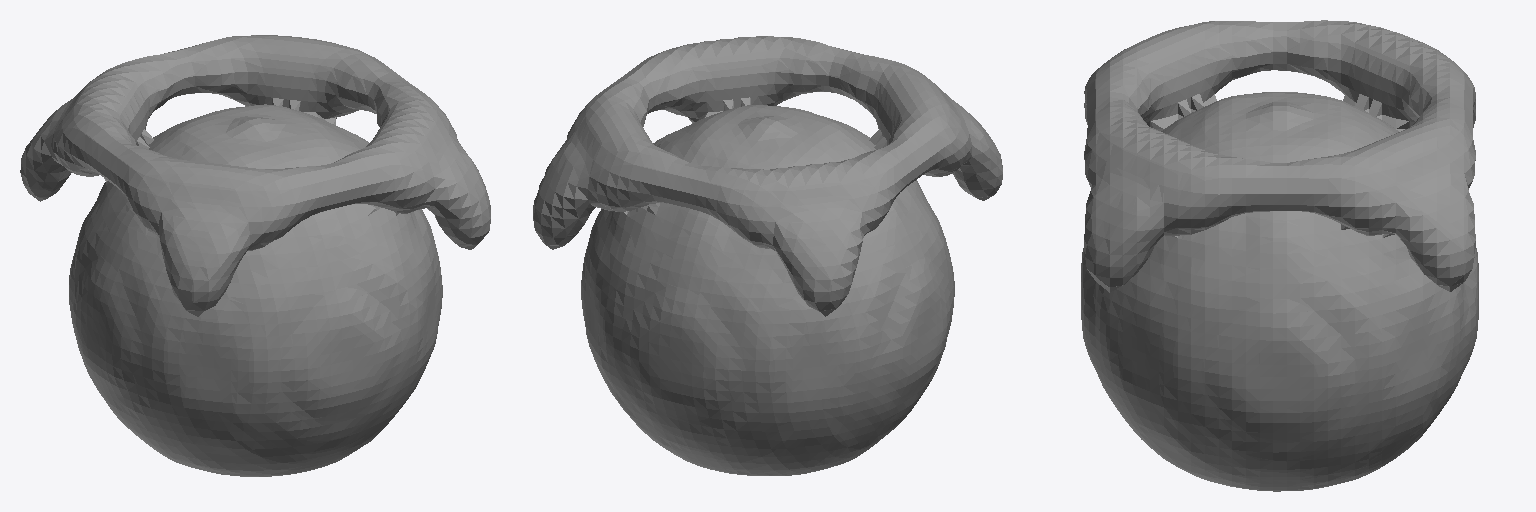
robot.urdf — cube.urdf:
<?xml version="0.0" ?> 
<robot name="cube.urdf"> 
<link name="legobrick"> 
<contact> 
<lateral_friction value="5.0"/> 
<rolling_friction value="0.0"/> 
<contact_cfm value="0.0"/> 
<contact_erp value="1.0"/> 
</contact> 
<inertial> 
<origin rpy="0 0 0" xyz="0.0 0.0 0.0"/> 
<mass value=".01"/> 
<inertia ixx="1" ixy="0" ixz="0" iyy="1" iyz="0" izz="1"/> 
</inertial> 
<visual> 
<origin rpy="1.570796 0 0" xyz="-0.02582997040885576 0.025852302716761227 -0.031139748280461843"/> 
<geometry> 
<mesh filename="D10_3.obj" scale="0.0006999968683890102 0.0006999968683890102 0.0006999968683890102"/> 
</geometry> 
<material name="yellow"> 
<color rgba="0.6 0.6 0.6 1"/> 
</material> 
</visual> 
<collision> 
<origin rpy="1.570796 0 0" xyz="-0.02582997040885576 0.025852302716761227 -0.031139748280461843"/> 
<geometry> 
<mesh filename="D10_3.obj" scale="0.0006999968683890102 0.0006999968683890102 0.0006999968683890102"/> 
</geometry> 
</collision> 
</link> 
</robot>

--- Facts derived from the render (not from the file) ---
3 views of the same robot in one strip: view 1: azimuth 30°, elevation 25°; view 2: azimuth 150°, elevation 25°; view 3: azimuth 270°, elevation 25° (orthographic).
Robot: cube.urdf — 1 links, 0 joints (none); root link legobrick; default pose: all joints at 0.
Links seen in each view (by area): view 1: legobrick; view 2: legobrick; view 3: legobrick.
Boxes of the visible links, x1,y1,x2,y2 form: legobrick: (20, 35, 490, 476); legobrick: (533, 36, 1002, 475); legobrick: (1081, 20, 1478, 491).
Size in the robot's own frame: 0.056 by 0.056 by 0.0561 metres.
1 mesh visuals loaded from 1 distinct referenced files (1 OBJ).
